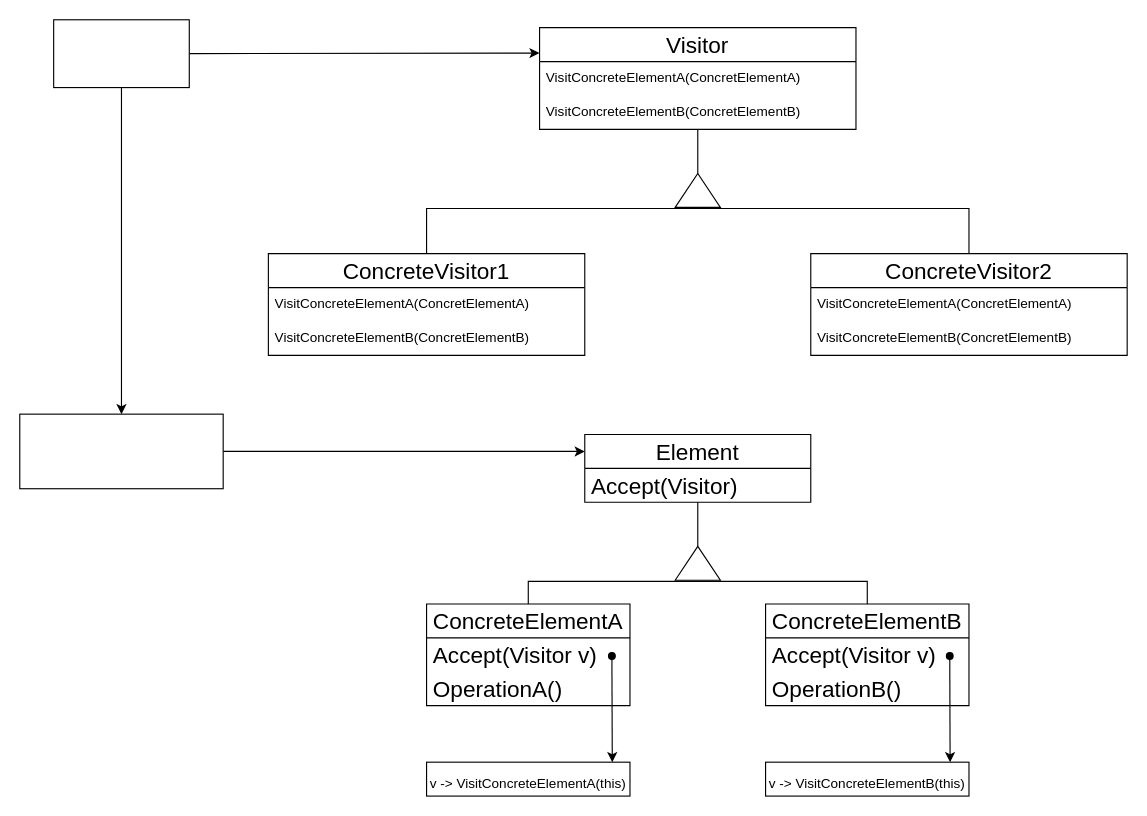
Image size: 1147x816. Some labels were removed from this diagram. The shapes that lost their labels are listed below. From the top down, each one's centre as x and y in pixels, then its label:
the point at 121,53: Client
the point at 121,451: ObjectStructure
